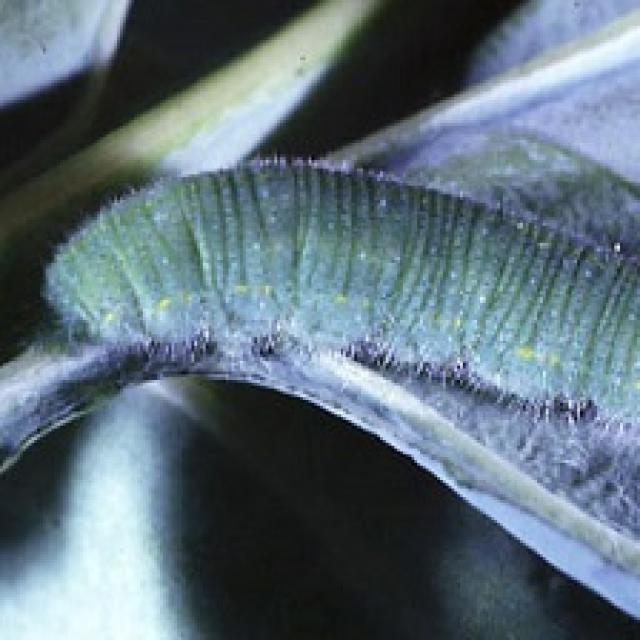Cabbage-worm: (42, 147, 640, 477)
